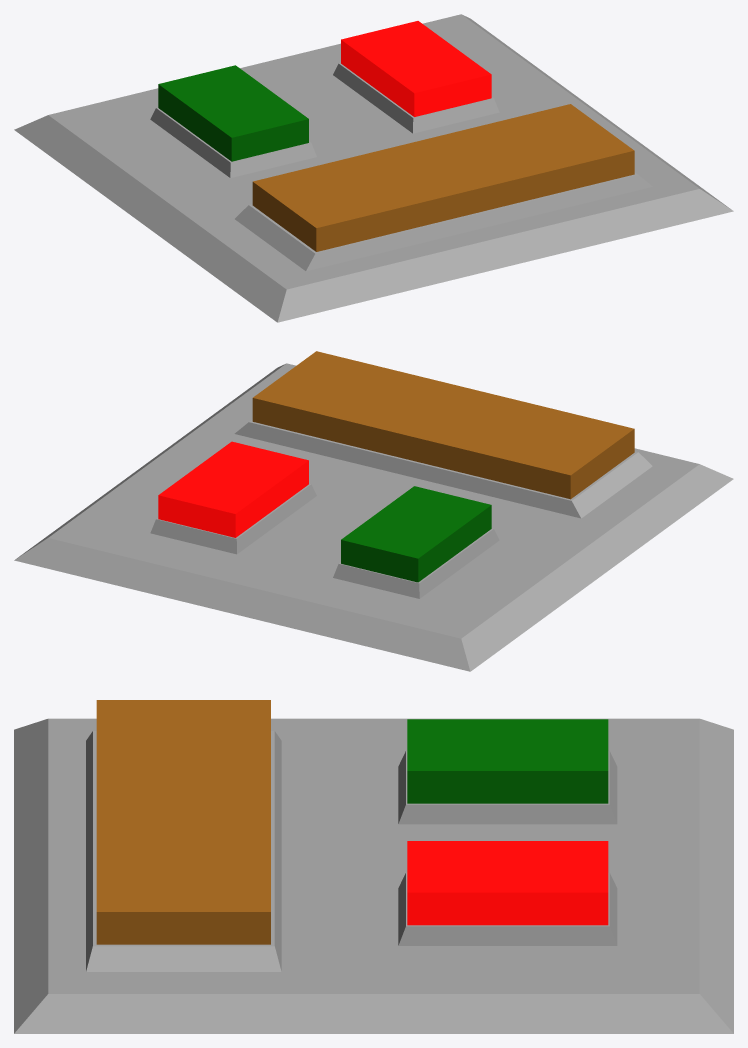
Rendered from but_vikl.fbx.
3 views of the same model, one above another, from view 1: azimuth 30°, elevation 25°; view 2: azimuth 150°, elevation 25°; view 3: azimuth 270°, elevation 25° (orthographic). The views are drawn at different scales.
Parts seen in each view (by area): view 1: Plane.012, Plane.015, Plane.014, Plane.013; view 2: Plane.012, Plane.015, Plane.014, Plane.013; view 3: Plane.012, Plane.014, Plane.015, Plane.013.
Boxes of the visible parts, x1,y1,x2,y2 form: Plane.012: (14, 14, 733, 322); Plane.015: (252, 104, 634, 251); Plane.014: (150, 21, 499, 177); Plane.013: (235, 172, 652, 271); Plane.012: (14, 363, 733, 671); Plane.015: (252, 351, 634, 499); Plane.014: (150, 441, 499, 598); Plane.013: (234, 419, 652, 518); Plane.012: (14, 718, 733, 1033); Plane.014: (398, 719, 617, 945); Plane.015: (96, 700, 270, 944); Plane.013: (86, 731, 281, 971).
Bounding box in the file's own units: 200 × 23.22 × 200.
